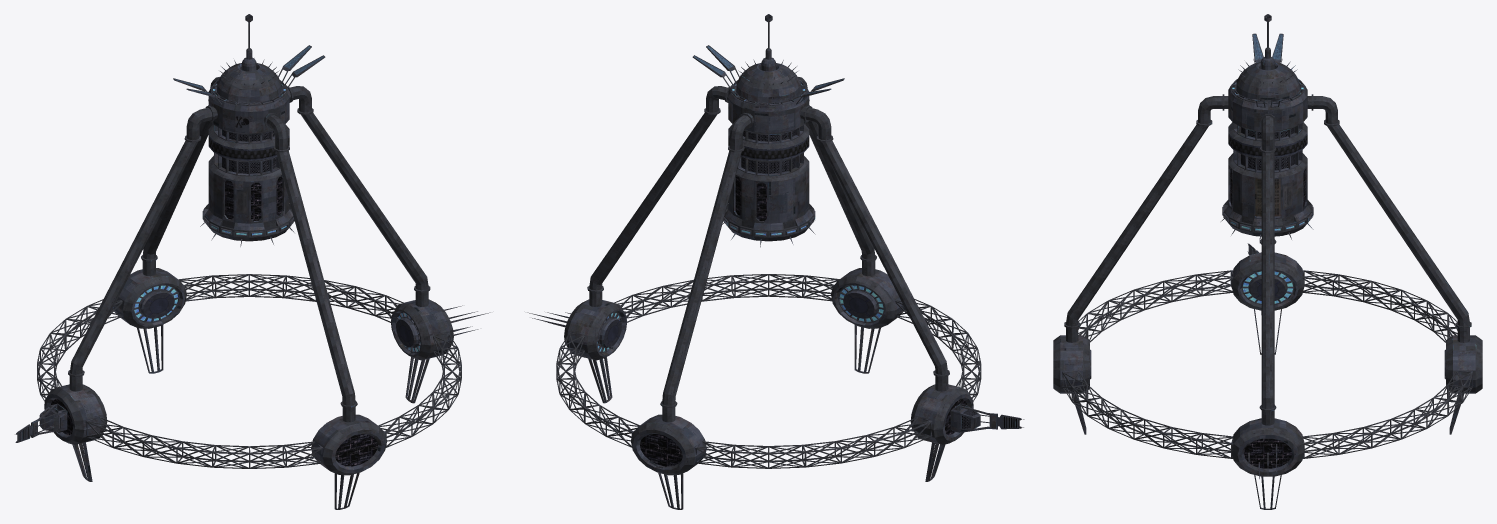
File: WormholeGenerator.obj
The picture shows the model from 3 angles, left to right: view 1: azimuth 30°, elevation 25°; view 2: azimuth 150°, elevation 25°; view 3: azimuth 270°, elevation 25°; orthographic projection.
Visible parts, largest first — view 1: Box01; view 2: Box01; view 3: Box01.
Boxes of the visible parts, bbox=[...] form: Box01: bbox=[15, 14, 490, 509]; Box01: bbox=[527, 14, 1024, 509]; Box01: bbox=[1053, 14, 1482, 509].
Size of the model in its own units: 525 by 436 by 405.
Materials: 1 (1 with a texture image).
